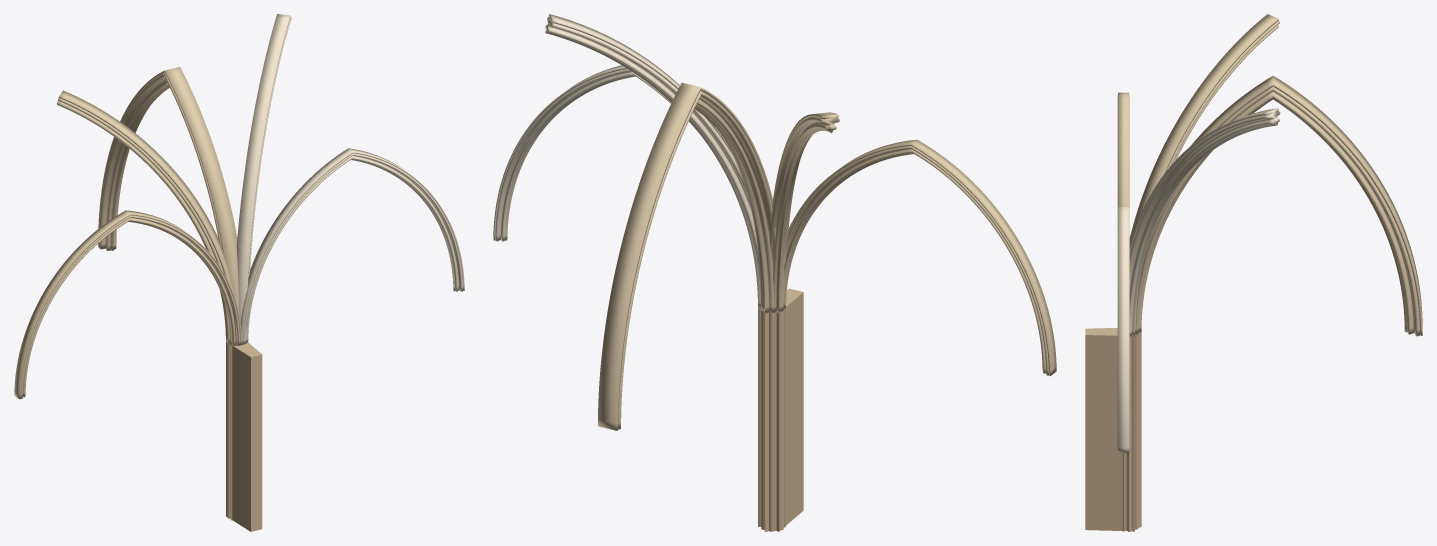
Rendered from R03_SIX_PROTECTED_SOURCE_MESHES_REFERENCE_ONLY.glb.
The picture shows the model from 3 angles, left to right: view 1: azimuth 30°, elevation 25°; view 2: azimuth 150°, elevation 25°; view 3: azimuth 270°, elevation 25°; orthographic projection. The views are drawn at different scales.
Parts seen in each view (by area): view 1: CHAPEL_TRANSVERSE_31000, SHARED_PIER_S, BAY1_FORMERET_0, BAY2_FORMERET_0, BAY2_RIB_0, BAY1_RIB_1; view 2: CHAPEL_TRANSVERSE_31000, SHARED_PIER_S, BAY1_FORMERET_0, BAY2_RIB_0, BAY1_RIB_1, BAY2_FORMERET_0; view 3: SHARED_PIER_S, CHAPEL_TRANSVERSE_31000, BAY2_RIB_0, BAY1_RIB_1, BAY2_FORMERET_0, BAY1_FORMERET_0.
Boxes of the visible parts, <box> form: CHAPEL_TRANSVERSE_31000: <box>98,67,239,343</box>; SHARED_PIER_S: <box>226,341,262,531</box>; BAY1_FORMERET_0: <box>14,210,241,399</box>; BAY2_FORMERET_0: <box>240,148,464,344</box>; BAY2_RIB_0: <box>236,14,291,343</box>; BAY1_RIB_1: <box>57,90,237,345</box>; CHAPEL_TRANSVERSE_31000: <box>598,82,783,430</box>; SHARED_PIER_S: <box>758,288,803,531</box>; BAY1_FORMERET_0: <box>783,139,1056,376</box>; BAY2_RIB_0: <box>545,14,761,308</box>; BAY1_RIB_1: <box>770,112,839,312</box>; BAY2_FORMERET_0: <box>493,65,698,241</box>; SHARED_PIER_S: <box>1085,327,1141,531</box>; CHAPEL_TRANSVERSE_31000: <box>1135,75,1422,336</box>; BAY2_RIB_0: <box>1129,108,1280,336</box>; BAY1_RIB_1: <box>1129,14,1279,245</box>; BAY2_FORMERET_0: <box>1117,206,1129,452</box>; BAY1_FORMERET_0: <box>1117,92,1129,208</box>.
Bounding box in the file's own units: 4800 × 4400 × 2820.
